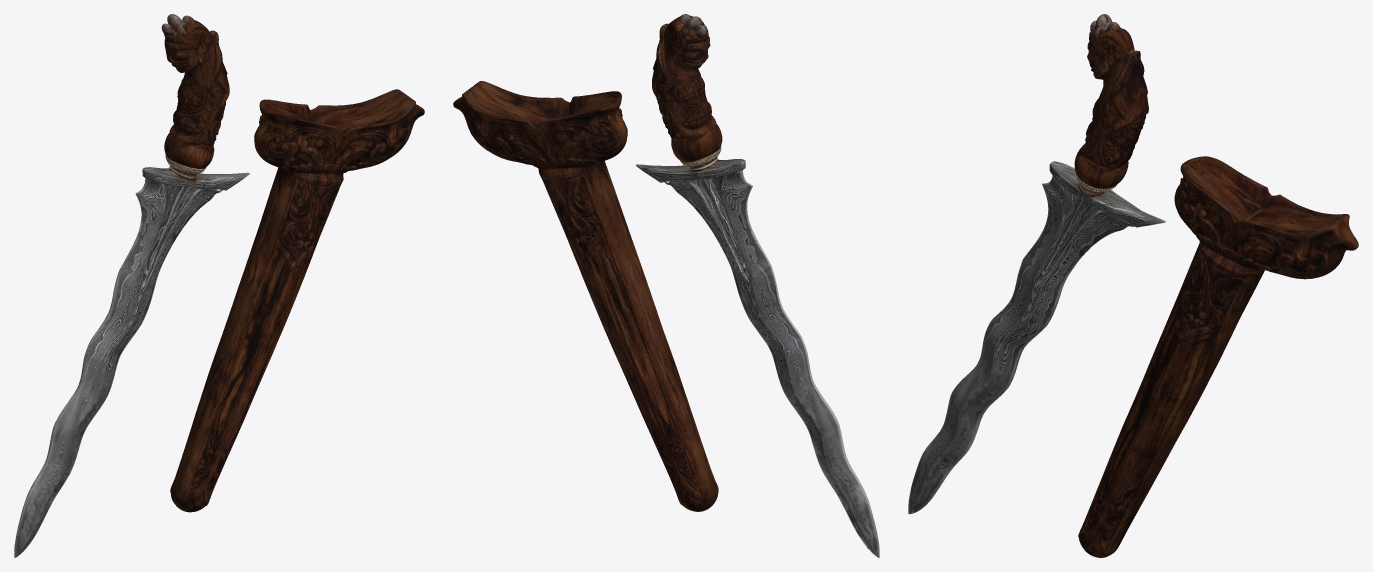
File: keris.glb
3 views of the same model, side by side, from view 1: azimuth 30°, elevation 25°; view 2: azimuth 150°, elevation 25°; view 3: azimuth 330°, elevation 25° (orthographic). The views are drawn at different scales.
Size of the model in its own units: 1.66 by 1.9 by 0.2404.
Materials: 1 (1 with a texture image).
